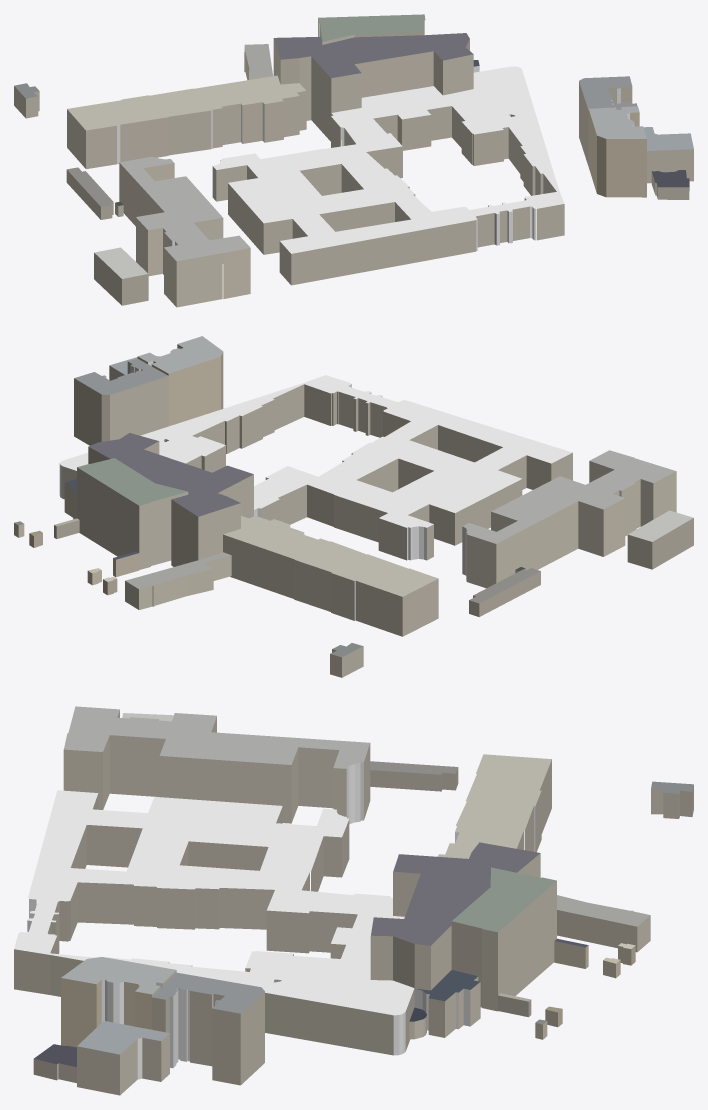
3 views of the same model, one above another, from view 1: azimuth 30°, elevation 25°; view 2: azimuth 150°, elevation 25°; view 3: azimuth 270°, elevation 25° (orthographic). The views are drawn at different scales.
Visible parts, largest first — view 1: tuile; view 2: tuile; view 3: tuile.
Boxes of the visible parts, x1,y1,x2,y2 form: tuile: [14, 14, 693, 307]; tuile: [14, 336, 693, 677]; tuile: [14, 706, 693, 1095].
Size of the model in its own units: 257 by 32 by 210.
